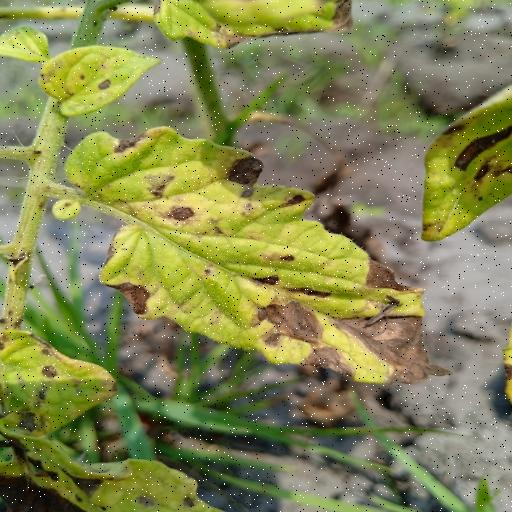Tomato_Brown_Spots: (61, 127, 434, 391)
